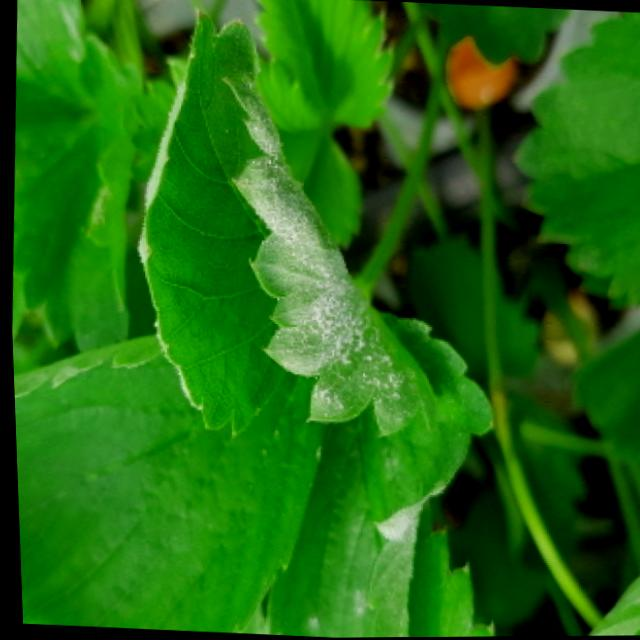Powdery Mildew Leaf: (136, 9, 438, 441), (257, 305, 494, 638)
